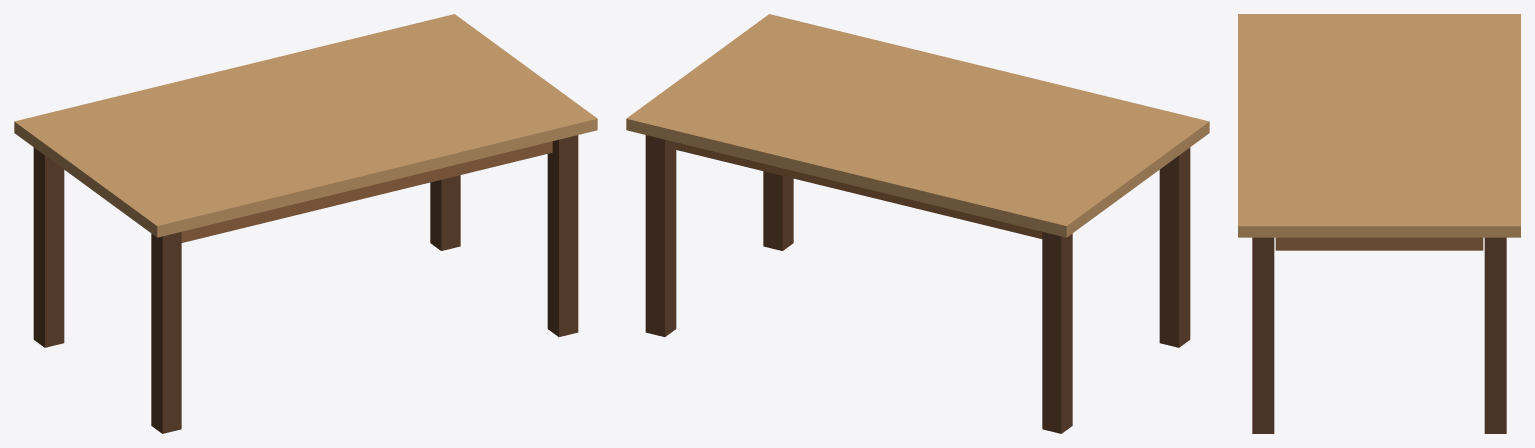
The model's file is mesa-madeira.glb.
3 renders of one model, left to right at view 1: azimuth 30°, elevation 25°; view 2: azimuth 150°, elevation 25°; view 3: azimuth 270°, elevation 25°, orthographic.
Parts seen in each view (by area): view 1: Tampo, Pernas, Saia; view 2: Tampo, Pernas, Saia; view 3: Tampo, Pernas, Saia.
Boxes of the visible parts, box(x1,y1,x2,y2) form: Tampo: box(14, 14, 597, 237); Pernas: box(33, 135, 578, 433); Saia: box(181, 141, 552, 242); Tampo: box(626, 14, 1209, 237); Pernas: box(645, 135, 1190, 433); Saia: box(675, 142, 1042, 238); Tampo: box(1238, 14, 1520, 237); Pernas: box(1252, 237, 1506, 433); Saia: box(1275, 237, 1483, 250).
Bounding box in the file's own units: 1.6 × 0.75 × 0.9.
